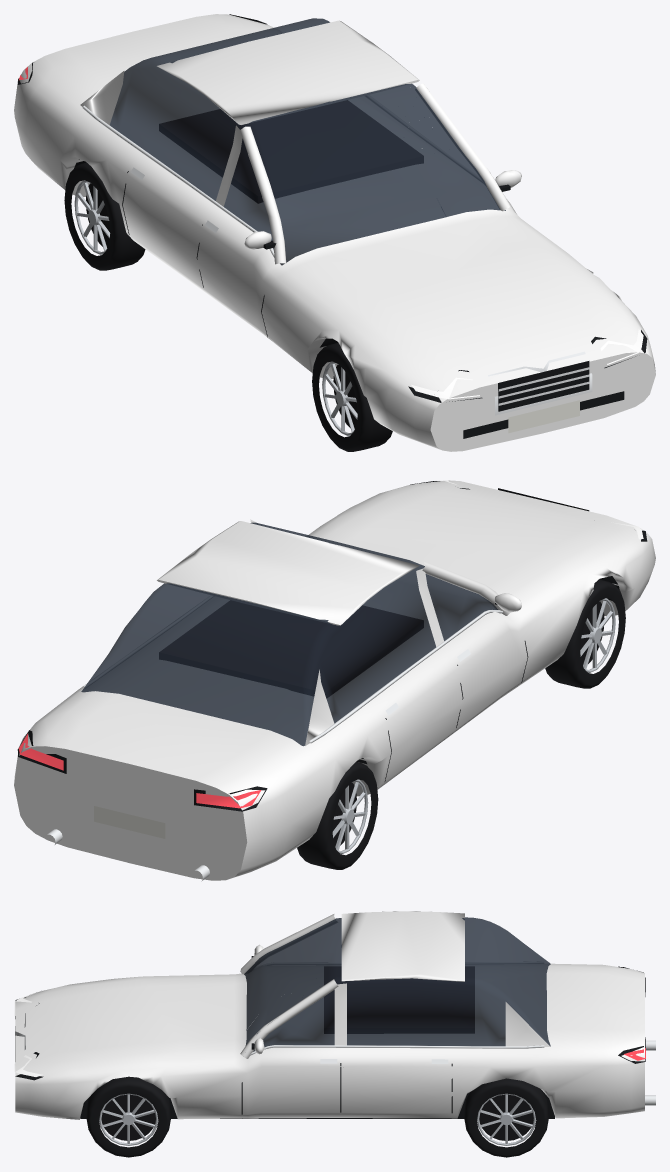
File: velora_aurelian.lod.glb
3 renders of one model, top to bottom at view 1: azimuth 30°, elevation 25°; view 2: azimuth 150°, elevation 25°; view 3: azimuth 270°, elevation 25°, orthographic. The views are drawn at different scales.
Visible parts, largest first — view 1: body_paint, body_glass, body_trim, tire (×2), door_glass, body_chrome, rim (×2), headlights; view 2: body_paint, body_glass, body_trim, tire (×2), rim (×2), body_chrome, taillights; view 3: body_paint, body_glass, body_trim, door_paint, tire (×2), door_glass, rim_back (×2), rim (×2), body_chrome.
Boxes of the visible parts, x1,y1,x2,y2 form: body_paint: [14, 14, 655, 451]; body_glass: [109, 18, 453, 265]; body_trim: [18, 14, 647, 438]; tire (×2): [64, 162, 392, 451]; door_glass: [379, 86, 505, 216]; body_chrome: [82, 95, 592, 415]; rim (×2): [74, 180, 357, 436]; headlights: [411, 329, 643, 399]; body_paint: [14, 480, 655, 880]; body_glass: [81, 522, 498, 746]; body_trim: [17, 481, 647, 838]; tire (×2): [297, 579, 625, 869]; rim (×2): [332, 598, 615, 854]; body_chrome: [47, 596, 503, 881]; taillights: [18, 733, 261, 808]; body_paint: [15, 911, 644, 1119]; body_glass: [244, 917, 550, 1046]; body_trim: [15, 956, 645, 1118]; door_paint: [243, 982, 343, 1118]; tire (×2): [86, 1076, 548, 1157]; door_glass: [245, 968, 336, 1051]; rim_back (×2): [101, 1094, 533, 1140]; rim (×2): [99, 1093, 535, 1145]; body_chrome: [15, 962, 655, 1105].
Bounding box in the file's own units: 2.02 × 1.52 × 5.3.
